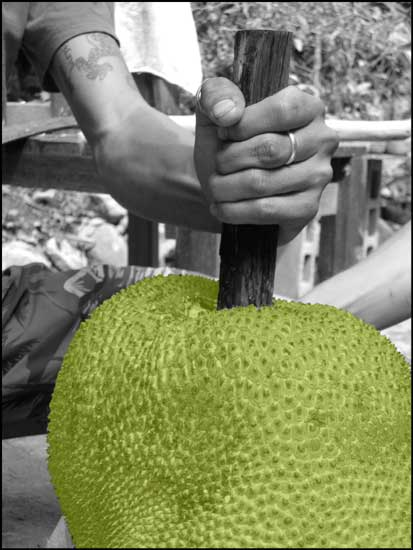jackfruit: (42, 269, 411, 548)
